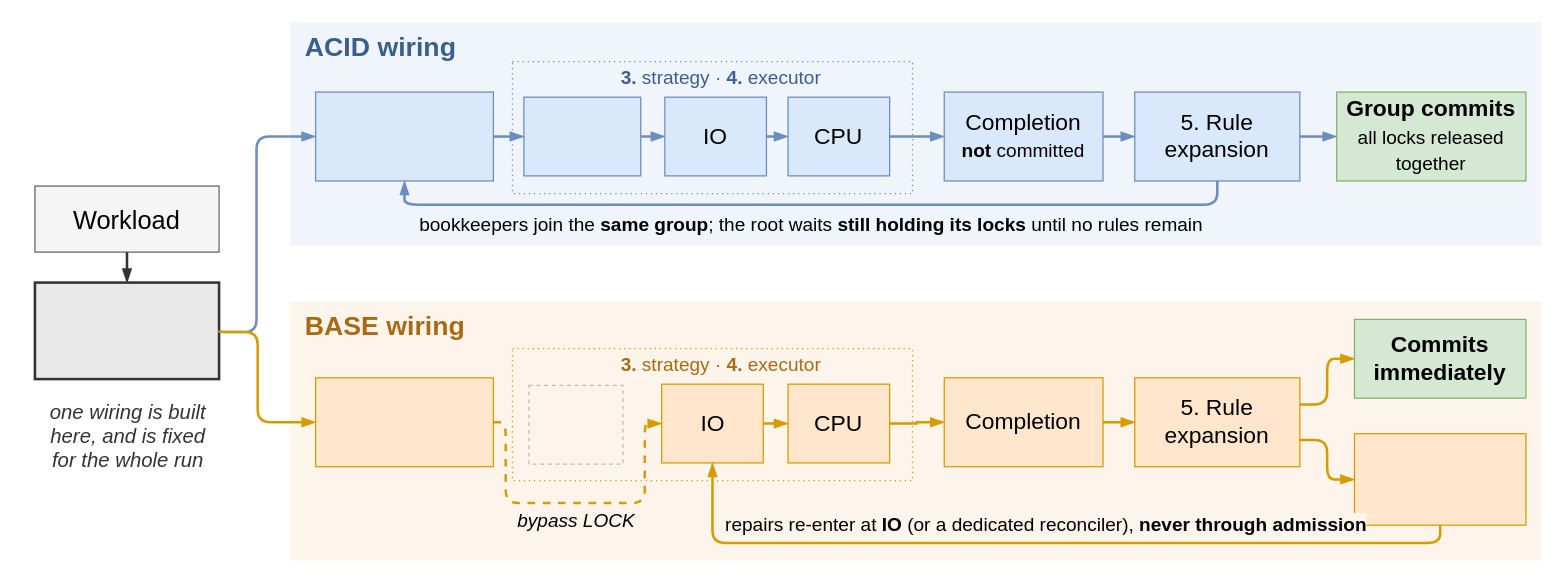
The diagram is 1562 pixels wide and 582 high, and some of its shapes have lost their labels. The shapes that lost their labels are listed below. From the top down, each one's box as (x1, y1, x2, y2) in pixels, then its label:
(314, 91, 493, 181): 2. Admission preclaims all locks
(523, 96, 641, 176): LOCK
(33, 281, 220, 380): 1. Runtime assembler
(314, 377, 493, 467): 2. Admission no locking step
(528, 384, 623, 464): LOCK never confgured
(1353, 432, 1526, 525): Dirty set reconciler repairs in the background
